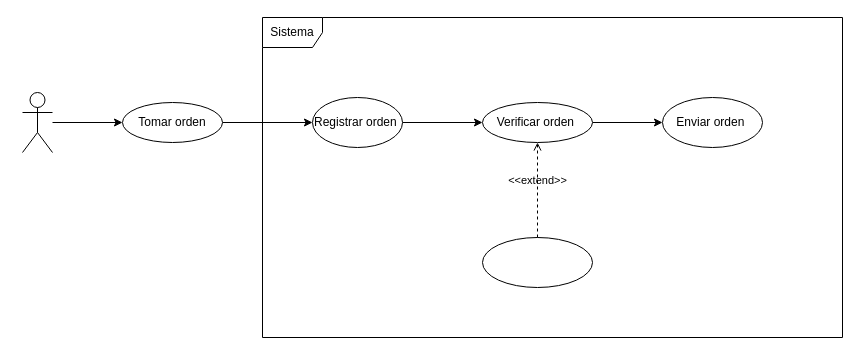
Image size: 860x355. Some labels were removed from this diagram. The centre of each missing label's shape, as x and y in pixels:
Gestionar orden: point (537, 262)
Mesero: point (37, 122)
